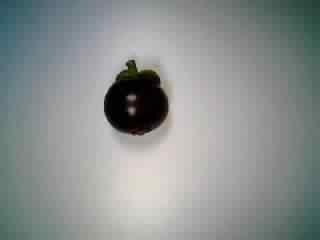mangosteen: (101, 55, 173, 137)
